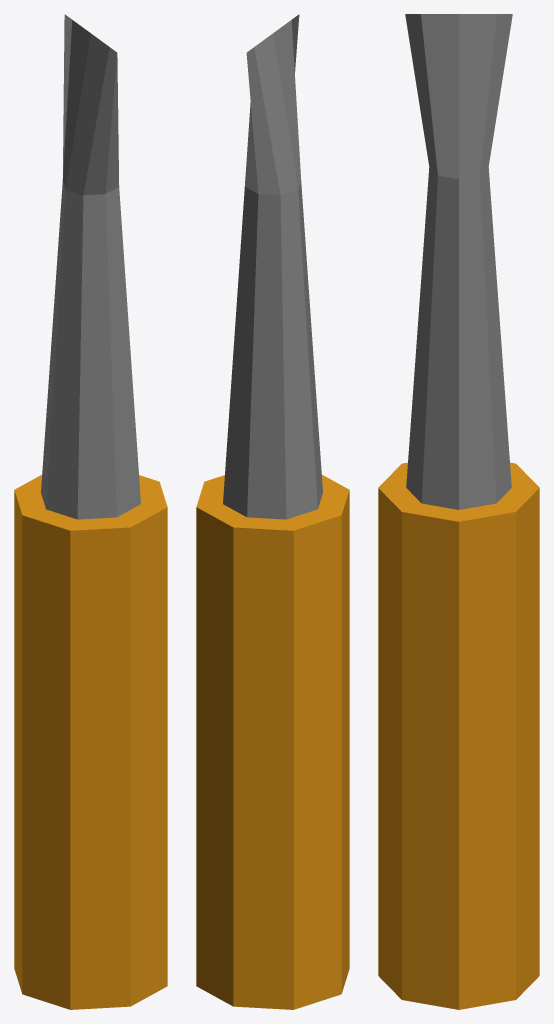
File: Chisel.fbx
3 views of the same model, side by side, from view 1: azimuth 30°, elevation 25°; view 2: azimuth 150°, elevation 25°; view 3: azimuth 270°, elevation 25° (orthographic).
Visible parts, largest first — view 1: Chisel; view 2: Chisel; view 3: Chisel.
Part boxes in pixels (left/top/right/bottom): Chisel: left=14, top=14, right=167, bottom=1009; Chisel: left=196, top=14, right=349, bottom=1009; Chisel: left=378, top=14, right=539, bottom=1009.
Bounding box in the file's own units: 0.06 × 0.3941 × 0.06.
